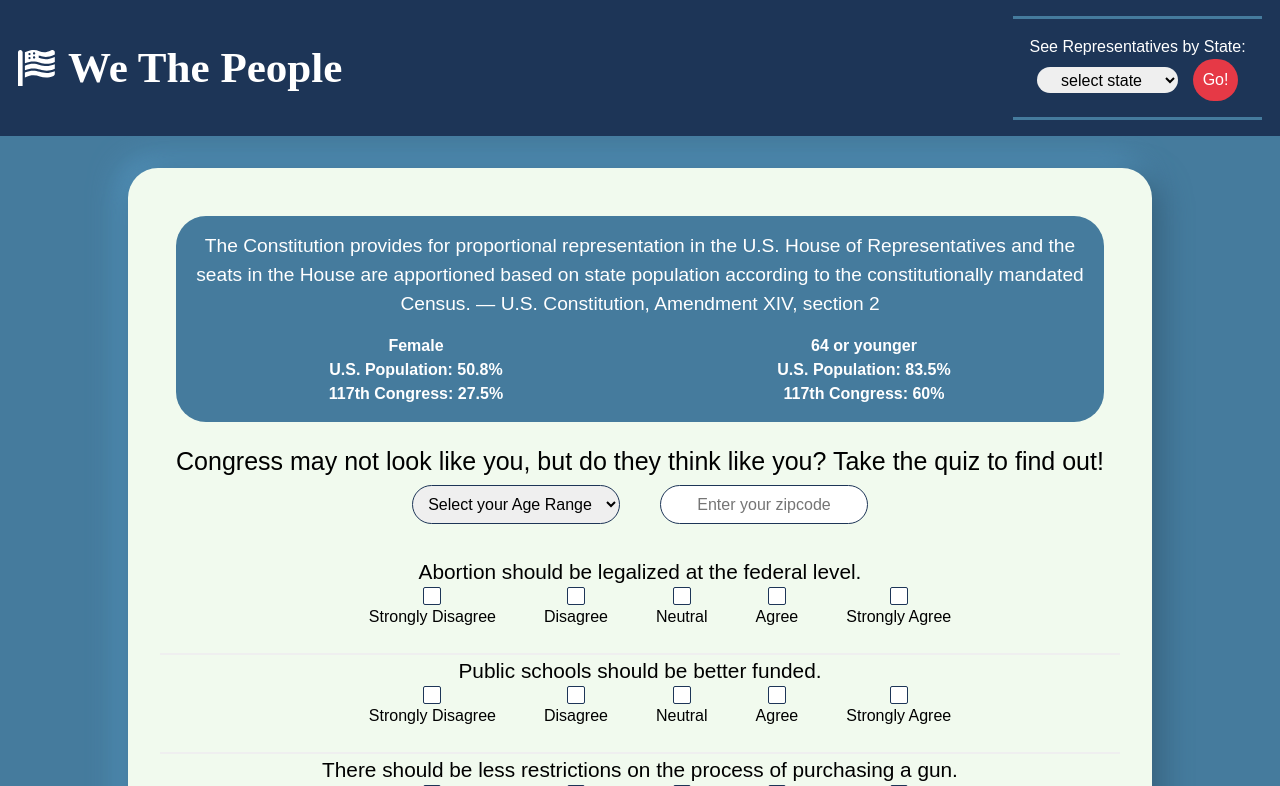
Test: State dropdown without a quiz flow › Should allow the user to select a state using the state dropdown, and be redirected to a new page showing all state legislators
Select "Iowa" in the dropdown with class "state-dropdown" at [1107, 80], box x1=1037 y1=67 x2=1177 y2=92
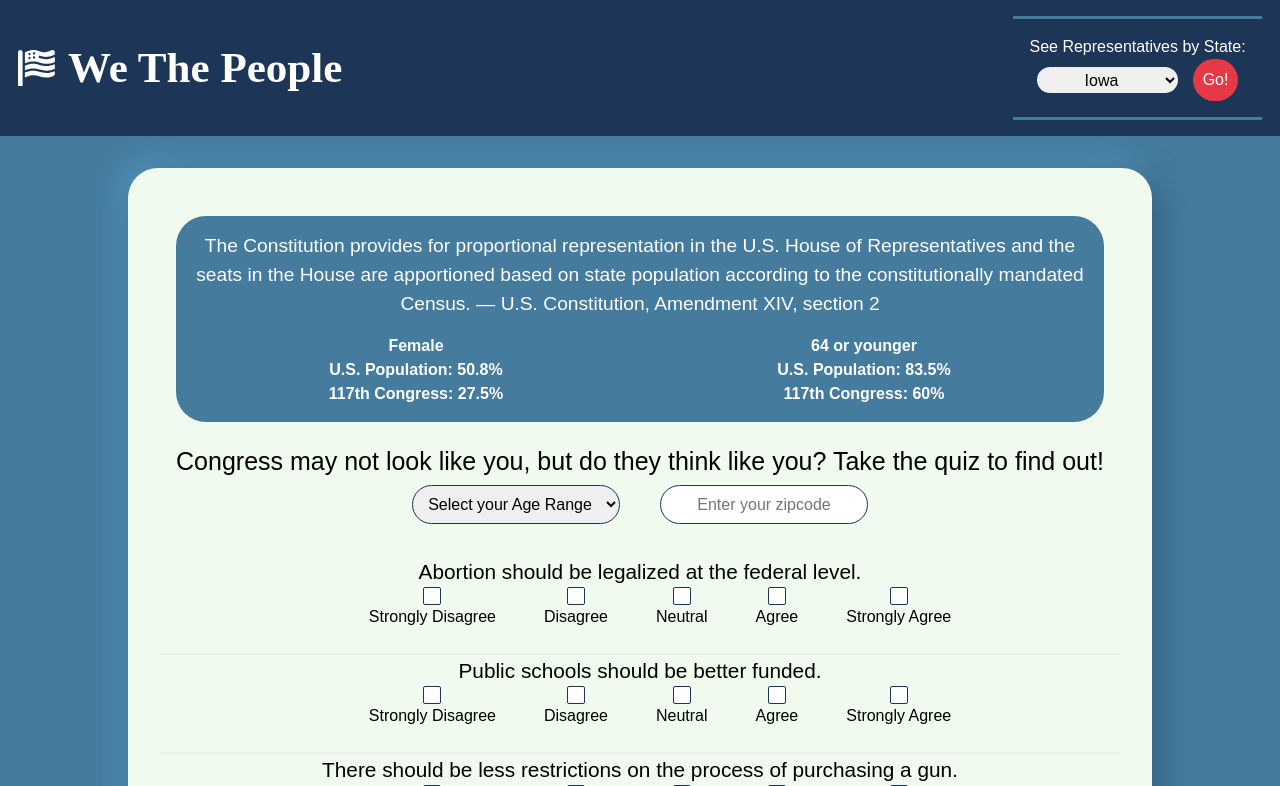
Click the button with class "go-button" at [1215, 81], box x1=1193 y1=59 x2=1237 y2=102
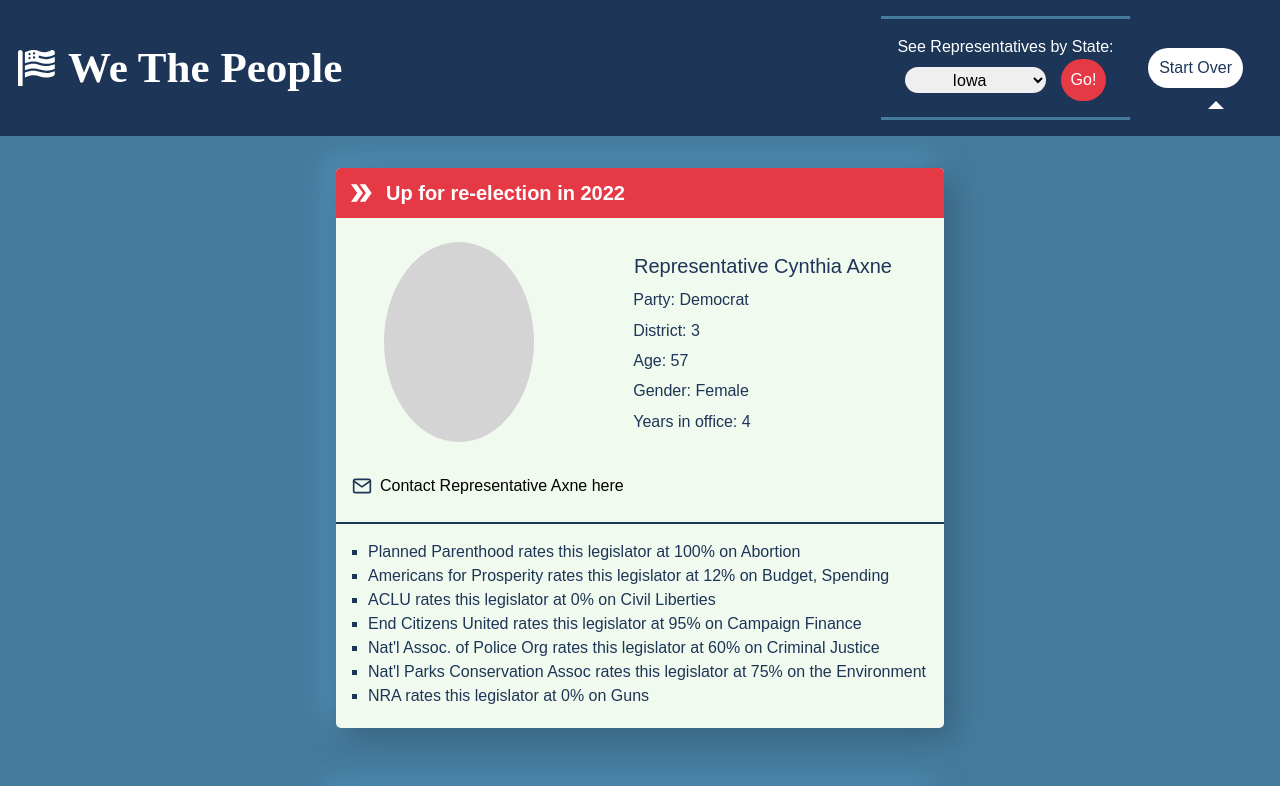
Expected: the number of elements with class "rep-card" is 6
